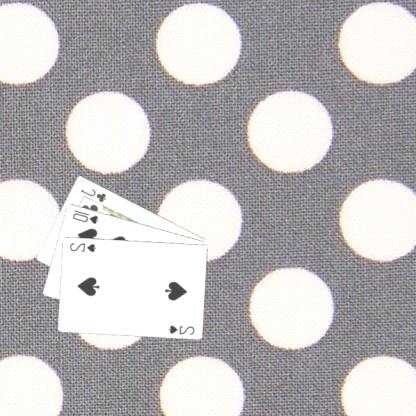10S: (72, 207, 102, 225)
2S: (69, 239, 99, 254), (167, 323, 198, 336)
JC: (80, 186, 110, 204)
